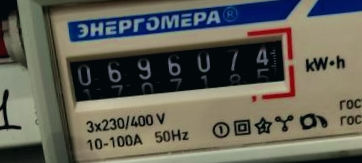0: (72, 60, 93, 86), (193, 47, 211, 73)
4: (251, 41, 269, 65)
5: (254, 66, 271, 83)
6: (164, 50, 184, 77), (104, 57, 123, 83)
7: (223, 45, 242, 71)
9: (133, 54, 152, 81)
screen: (54, 22, 299, 113)
